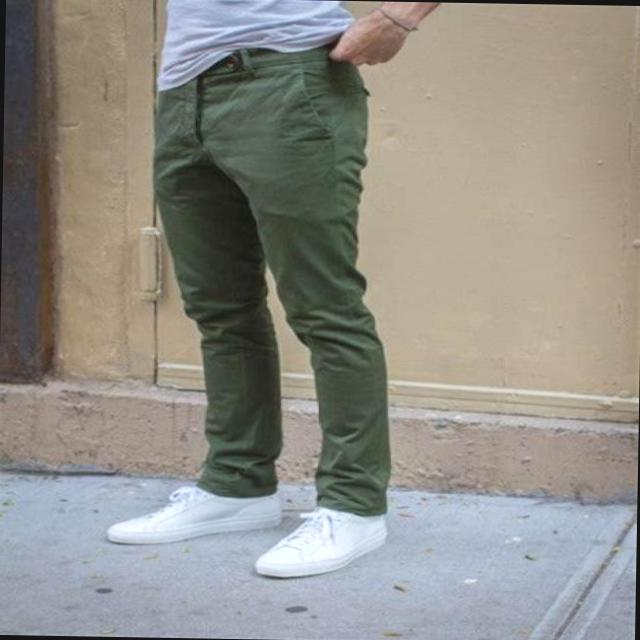pants: (146, 39, 398, 519)
